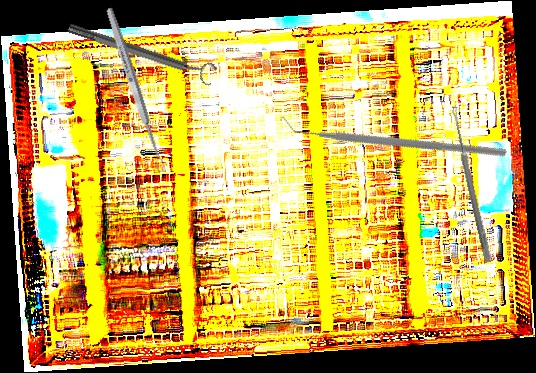Chopper: (281, 33, 508, 237)
Fixation Ring: (65, 14, 218, 89)
Surgical Spoon: (103, 6, 168, 174), (449, 105, 493, 263)
